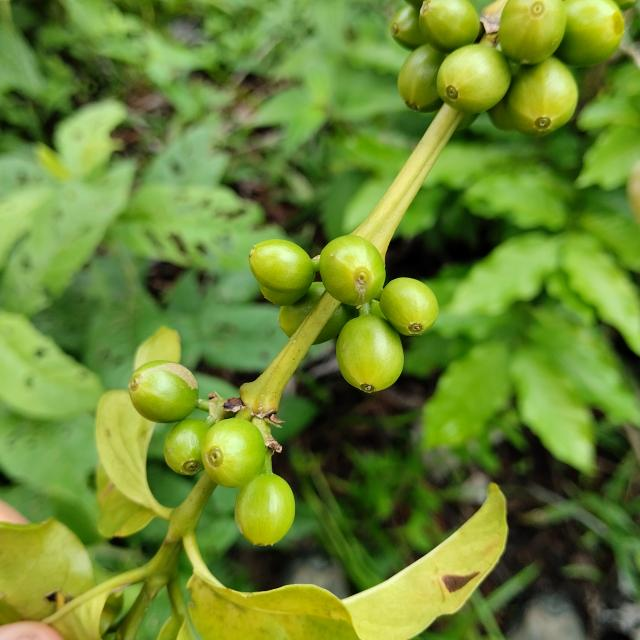green: (504, 55, 579, 136), (336, 315, 404, 393), (437, 43, 512, 113), (320, 235, 386, 307), (235, 471, 295, 547), (556, 0, 625, 66), (201, 418, 265, 488), (499, 0, 568, 64), (128, 360, 198, 423), (249, 239, 315, 292), (380, 278, 439, 336), (398, 43, 446, 112), (419, 0, 481, 52), (164, 419, 210, 476), (279, 282, 325, 337), (313, 303, 359, 344), (391, 3, 427, 49), (259, 284, 311, 306)
